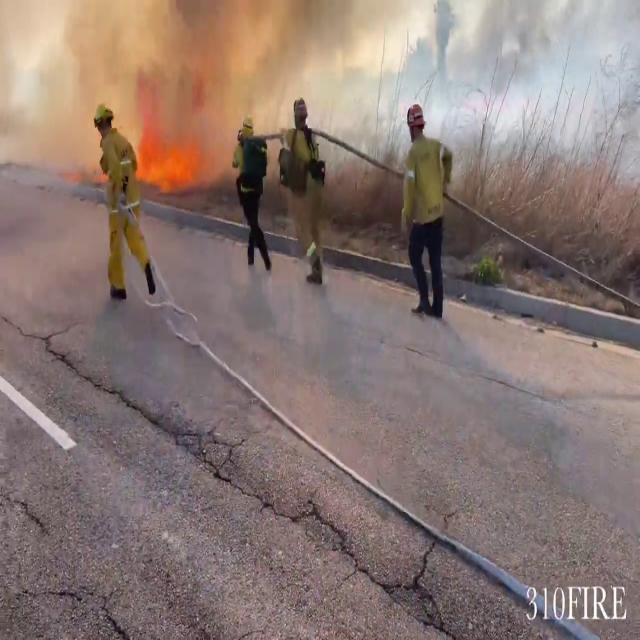Smoke: (1, 0, 397, 192)
